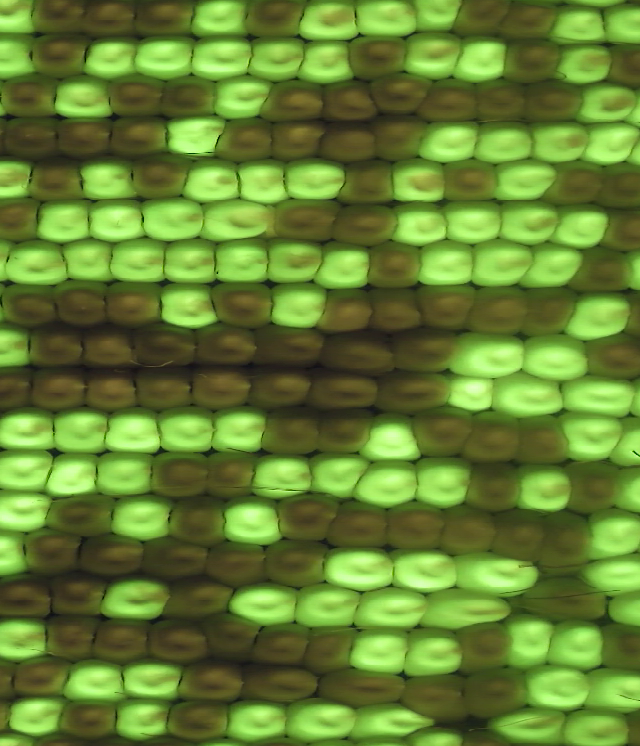fluorescent: (447, 545, 551, 603), (415, 584, 516, 640), (443, 323, 535, 382), (341, 699, 450, 744), (222, 574, 308, 630), (351, 406, 429, 467), (519, 327, 595, 389), (559, 285, 635, 347), (486, 369, 573, 423), (102, 489, 184, 546), (315, 539, 403, 592), (396, 26, 472, 87), (277, 693, 366, 745), (479, 698, 575, 746), (558, 371, 640, 427), (353, 582, 436, 637), (465, 233, 542, 292), (96, 400, 173, 459), (516, 659, 594, 717), (555, 407, 629, 468), (97, 570, 176, 627), (397, 620, 470, 681), (73, 150, 148, 209), (545, 613, 612, 679), (217, 692, 299, 745), (384, 543, 463, 598), (259, 232, 335, 289), (0, 235, 80, 289), (114, 652, 195, 705), (409, 452, 478, 514), (413, 234, 485, 293), (309, 236, 382, 294), (101, 231, 174, 289), (150, 400, 223, 458), (467, 115, 545, 169), (350, 453, 422, 511), (345, 621, 417, 679), (544, 197, 616, 255), (58, 652, 132, 708), (216, 491, 285, 551), (240, 449, 316, 503), (45, 403, 121, 457), (88, 447, 161, 503), (201, 193, 278, 246), (516, 457, 581, 519), (514, 239, 588, 293), (205, 400, 275, 457), (291, 579, 366, 632), (501, 607, 559, 675), (177, 152, 246, 209), (208, 232, 277, 289), (492, 195, 566, 248), (525, 114, 595, 170), (304, 448, 374, 504), (130, 30, 201, 85), (264, 278, 335, 333), (280, 152, 355, 204), (0, 399, 65, 459), (105, 692, 180, 744), (241, 30, 311, 85), (569, 75, 640, 129), (186, 32, 261, 83), (410, 117, 485, 168), (2, 689, 74, 742), (154, 279, 227, 331), (160, 110, 229, 165), (385, 152, 455, 206), (31, 194, 101, 248), (441, 194, 511, 248), (575, 662, 640, 720), (160, 232, 226, 289), (231, 155, 299, 210), (208, 71, 277, 125), (41, 448, 110, 502), (447, 31, 513, 87), (79, 31, 148, 84), (84, 194, 153, 247), (293, 33, 358, 89), (49, 70, 117, 123), (140, 192, 208, 245), (573, 119, 640, 172), (547, 38, 618, 88), (580, 503, 640, 562), (385, 198, 455, 248), (555, 703, 636, 746), (493, 157, 562, 207), (290, 1, 368, 45), (0, 442, 60, 499), (347, 1, 427, 43), (57, 234, 119, 288), (576, 547, 640, 599), (543, 4, 610, 51), (0, 611, 55, 667), (441, 368, 502, 418), (0, 485, 56, 539), (185, 1, 258, 40), (0, 29, 46, 82), (0, 523, 37, 587), (605, 412, 640, 475), (603, 461, 640, 520), (596, 1, 640, 50), (0, 316, 37, 374), (407, 1, 464, 37), (0, 151, 38, 202), (605, 584, 640, 634), (0, 1, 40, 41)
nonfluorescent: (528, 505, 601, 583), (454, 661, 538, 725), (367, 363, 461, 419), (315, 660, 416, 712), (519, 573, 613, 627), (44, 485, 125, 547), (196, 534, 278, 594), (270, 486, 346, 550), (382, 322, 465, 380), (45, 272, 118, 337), (206, 276, 286, 335), (324, 495, 401, 556), (125, 317, 203, 377), (302, 361, 385, 417), (488, 504, 556, 572), (377, 495, 454, 555), (161, 571, 242, 628), (244, 321, 331, 374), (397, 668, 475, 727), (133, 530, 211, 589), (316, 327, 401, 381), (187, 317, 266, 375), (170, 656, 253, 711), (237, 660, 330, 709), (460, 456, 531, 520), (270, 192, 348, 250), (507, 409, 578, 472), (166, 488, 234, 553), (143, 611, 214, 673), (308, 281, 380, 342), (567, 243, 640, 303), (455, 404, 528, 464), (145, 445, 218, 505), (333, 154, 407, 213), (126, 361, 202, 418), (328, 197, 405, 253), (448, 617, 521, 676), (262, 533, 335, 592), (33, 607, 107, 665), (200, 607, 267, 671), (433, 500, 503, 561), (90, 613, 160, 674), (71, 529, 151, 582), (460, 282, 534, 339), (157, 694, 238, 746), (407, 400, 483, 455), (411, 278, 484, 335), (15, 522, 87, 579), (361, 233, 427, 295), (346, 31, 419, 87), (26, 27, 99, 83), (40, 568, 113, 624), (517, 281, 584, 342), (256, 73, 333, 126), (24, 316, 95, 373), (98, 275, 170, 331), (24, 360, 96, 416), (184, 359, 257, 414), (128, 148, 196, 207), (53, 692, 127, 746), (74, 317, 144, 374), (256, 402, 326, 459), (248, 617, 315, 676), (519, 76, 593, 129), (208, 115, 282, 168), (103, 111, 177, 164), (360, 282, 430, 337), (539, 157, 613, 209), (415, 75, 487, 128), (311, 403, 380, 458), (199, 444, 264, 502), (497, 35, 568, 88), (153, 70, 224, 123), (242, 360, 314, 412), (264, 115, 337, 166), (11, 647, 75, 705), (101, 70, 171, 123), (79, 366, 148, 419), (24, 154, 91, 208), (297, 622, 365, 675), (51, 113, 120, 165), (0, 278, 66, 332), (564, 459, 625, 517), (367, 69, 439, 118), (313, 118, 383, 168), (0, 111, 65, 164), (315, 77, 385, 126), (583, 330, 640, 390), (369, 111, 431, 166), (467, 74, 535, 124), (435, 156, 505, 204), (0, 69, 63, 122), (0, 567, 60, 622), (128, 1, 202, 43), (239, 1, 313, 43), (490, 1, 562, 43), (592, 619, 640, 680), (443, 1, 513, 41), (593, 158, 640, 217), (76, 1, 146, 40), (0, 192, 46, 249), (0, 360, 44, 416), (28, 1, 92, 39), (595, 205, 640, 257), (606, 37, 640, 92)
